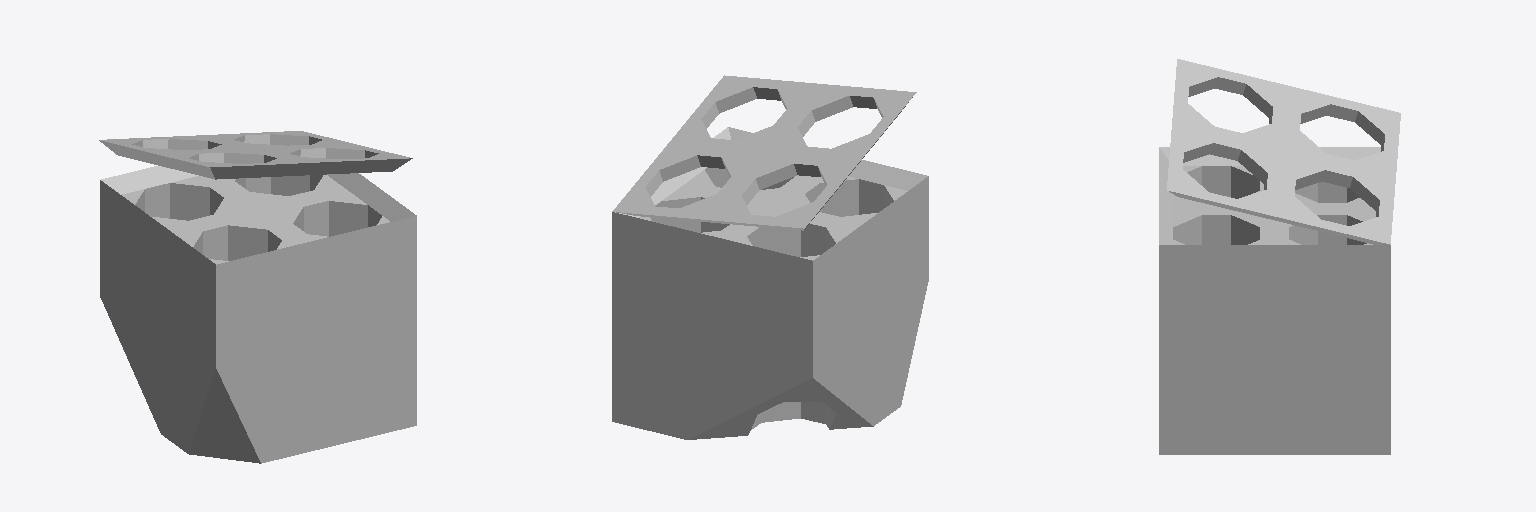
File: element_debris.obj
3 views of the same model, side by side, from view 1: azimuth 30°, elevation 25°; view 2: azimuth 150°, elevation 25°; view 3: azimuth 270°, elevation 25° (orthographic).
Parts seen in each view (by area): view 1: Column; view 2: Column; view 3: Column.
Boxes of the visible parts, x1,y1,x2,y2 form: Column: [99, 131, 416, 463]; Column: [612, 75, 928, 439]; Column: [1159, 59, 1400, 454].
Bounding box in the file's own units: 1 × 1.43 × 1.04.